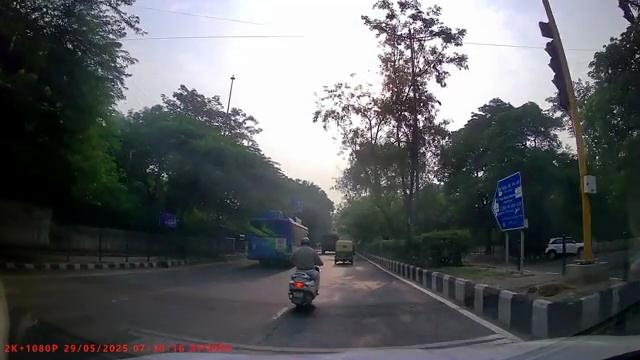motorcycle_with_helmet: (286, 236, 323, 310)
